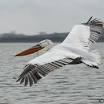pelican: (15, 16, 104, 87)
